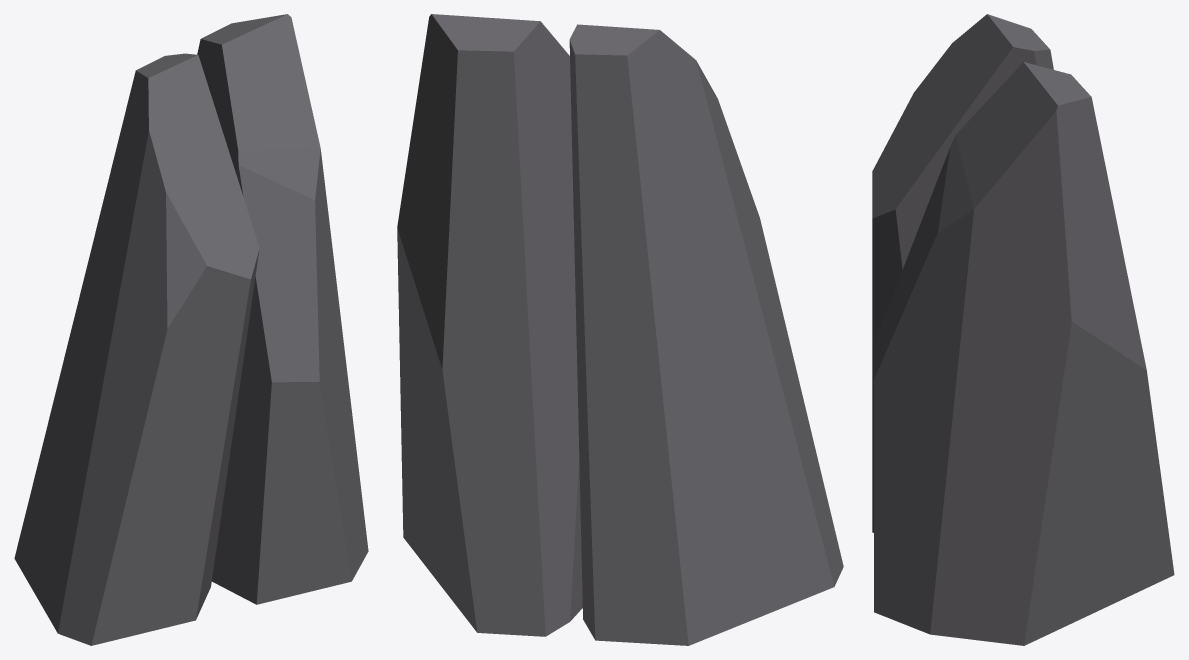
File: Rock_Sharp_m_15.fbx
3 renders of one model, left to right at view 1: azimuth 30°, elevation 25°; view 2: azimuth 150°, elevation 25°; view 3: azimuth 270°, elevation 25°, orthographic. The views are drawn at different scales.
Parts seen in each view (by area): view 1: Rock_Sharp_m_15; view 2: Rock_Sharp_m_15; view 3: Rock_Sharp_m_15.
Boxes of the visible parts, x1,y1,x2,y2 form: Rock_Sharp_m_15: (14, 14, 368, 645); Rock_Sharp_m_15: (397, 14, 843, 645); Rock_Sharp_m_15: (872, 14, 1174, 645).
Bounding box in the file's own units: 89.73 × 126 × 66.19.
